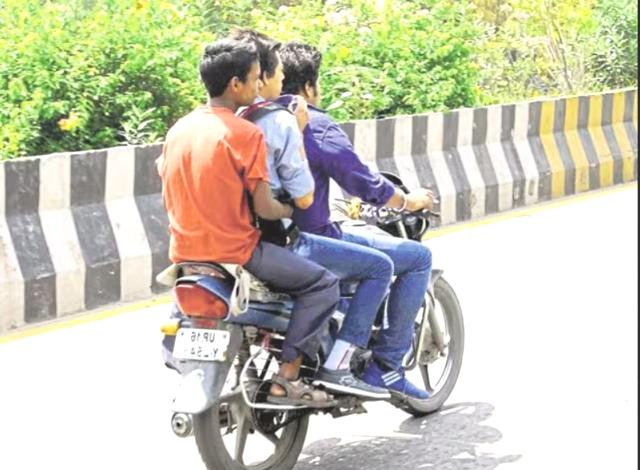licensePlate: (170, 324, 235, 362)
motorcycle: (151, 29, 475, 470)
withoutHelmet: (194, 46, 258, 107), (273, 45, 330, 106), (246, 35, 282, 100)
